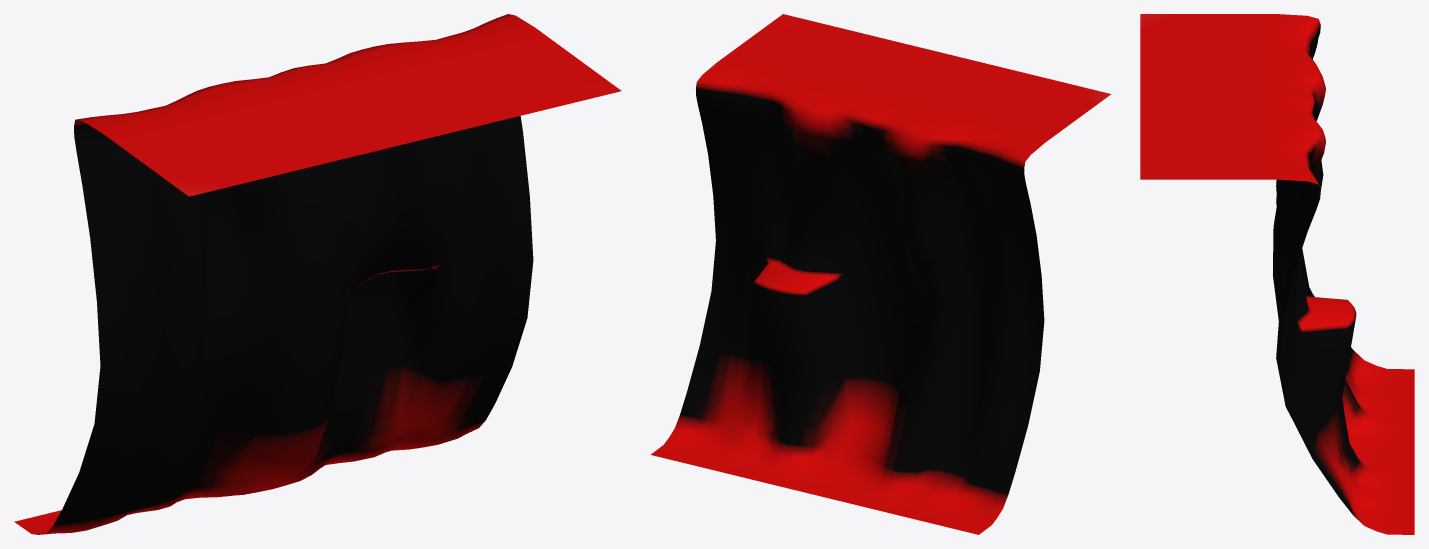
File: GroundCliff01B 2M Foreground.fbx
3 renders of one model, left to right at view 1: azimuth 30°, elevation 25°; view 2: azimuth 150°, elevation 25°; view 3: azimuth 270°, elevation 25°, orthographic. The views are drawn at different scales.
Parts seen in each view (by area): view 1: GroundCliff01B 2M Foreground; view 2: GroundCliff01B 2M Foreground; view 3: GroundCliff01B 2M Foreground.
Part boxes in pixels (x1,y1,x2,y2): GroundCliff01B 2M Foreground: [14, 14, 621, 534]; GroundCliff01B 2M Foreground: [650, 14, 1111, 534]; GroundCliff01B 2M Foreground: [1140, 14, 1414, 534].
Bounding box in the file's own units: 2 × 2 × 1.4.
